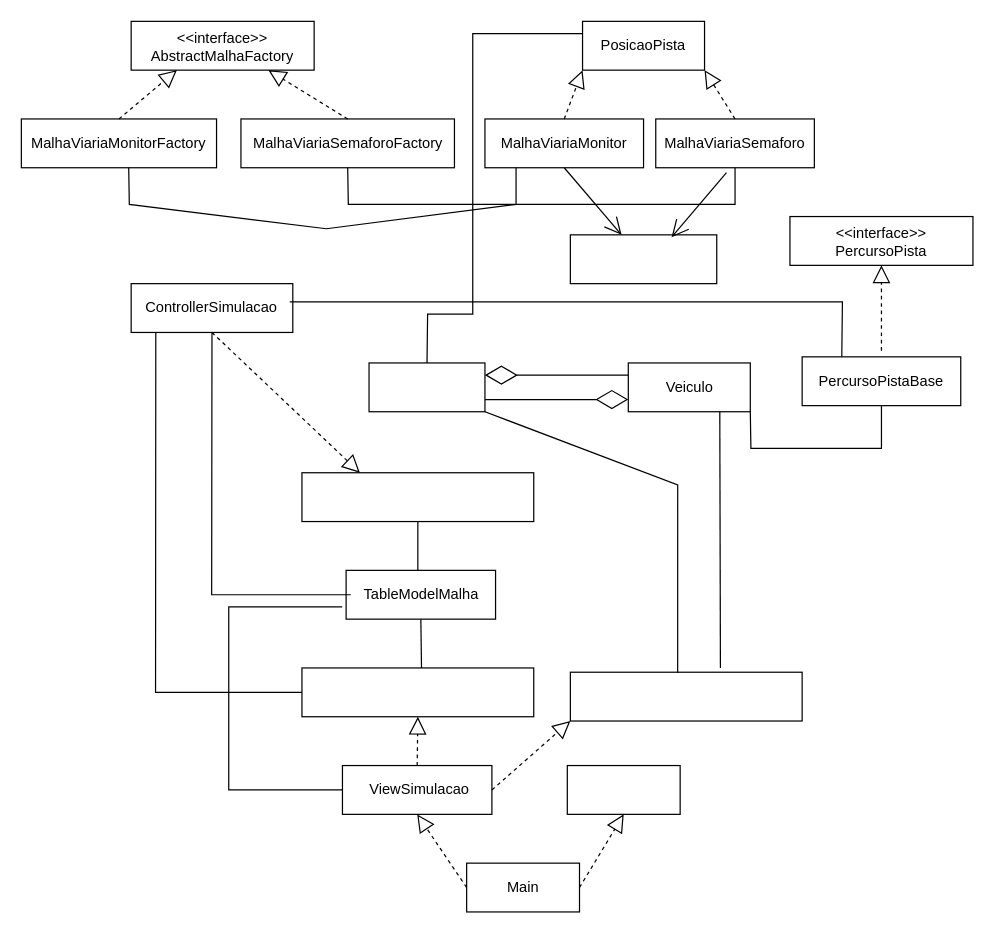
Some shapes in this 994 by 933 pixel diagram are drawn without their labels. The box of each missing label's shape, as (x1, y1, x2, y2) in pixels:
<<abstract>> MalhaViaria: (569, 234, 717, 284)
<<interface>> InterfaceControllerObserved: (301, 472, 534, 522)
<<interface>> InterfaceViewObserver: (301, 667, 534, 717)
DefaultTableCellRenderMalha: (569, 671, 802, 721)
ItemPista: (368, 362, 485, 412)
Sobre: (566, 764, 680, 814)
